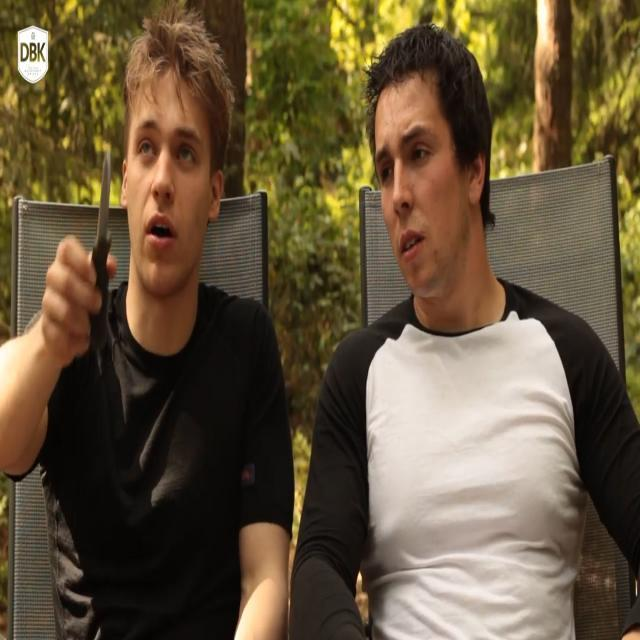weapon: (70, 135, 118, 357)
